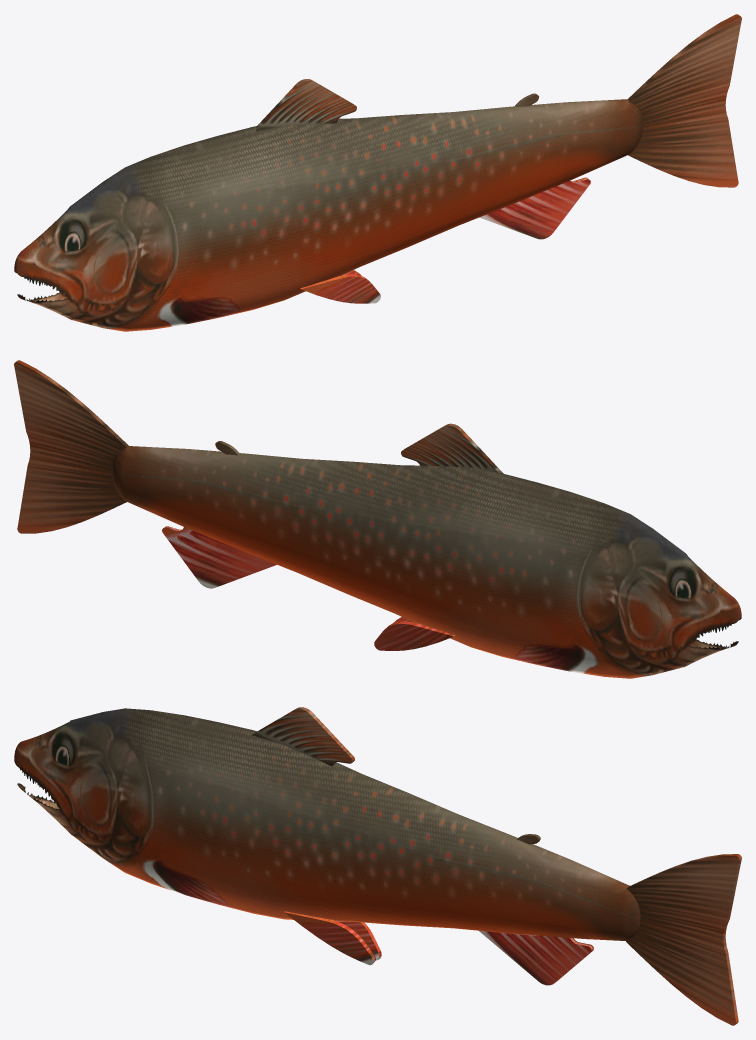
Rendered from Artic char.fbx.
3 views of the same model, one above another, from view 1: azimuth 30°, elevation 25°; view 2: azimuth 150°, elevation 25°; view 3: azimuth 330°, elevation 25° (orthographic).
Parts seen in each view (by area): view 1: Line016, Line002, Line009, Line005, Line013; view 2: Line016, Line002, Line009, Line005, Line014; view 3: Line016, Line002, Line009, Line005, Line013, Line014.
Part boxes in pixels (x1,y1,x2,y2): Line016: (14,99,643,331); Line002: (628,14,741,187); Line009: (479,177,590,239); Line005: (256,79,356,131); Line013: (300,274,380,303); Line016: (112,446,741,678); Line002: (14,360,128,533); Line009: (162,526,276,588); Line005: (401,423,503,473); Line014: (374,621,455,650); Line016: (14,708,640,940); Line002: (626,854,741,1025); Line009: (479,930,593,985); Line005: (251,707,354,766); Line013: (284,911,375,964); Line014: (338,921,381,960).
Bounding box in the file's own units: 1014 × 318 × 74.06.
4 materials, 4 textured.
